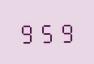five: (38, 20, 56, 43)
nine: (18, 20, 36, 44), (57, 19, 75, 43)
